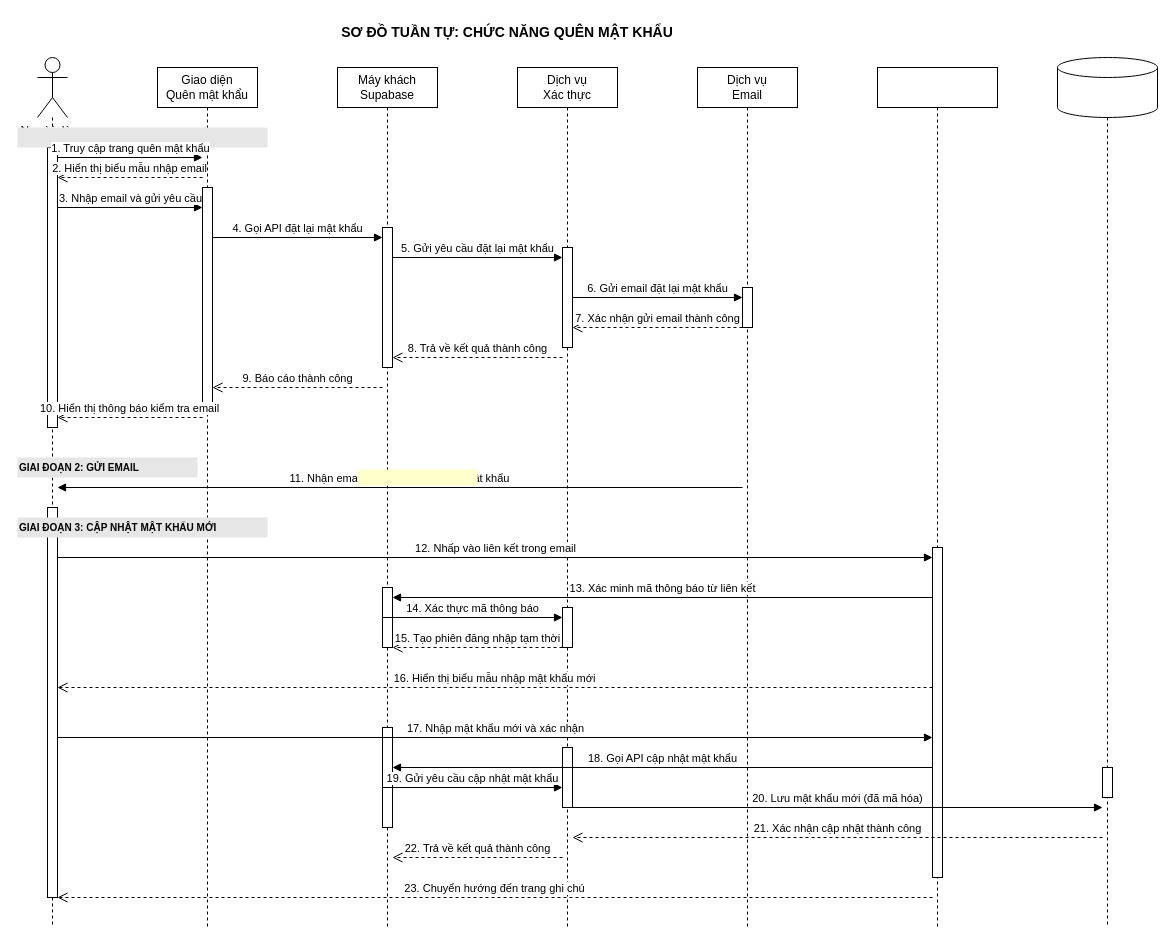
The diagram is 1175 pixels wide and 946 high, and some of its shapes have lost their labels. Each missing label, with the centre of its shape:
"Cơ sở dữ liệu" belongs at [1107,87].
"GIAI ĐOẠN 1: YÊU CẦU ĐẶT LẠI MẬT KHẨU" belongs at [142,137].
"Giao diện Cập nhật mật khẩu" belongs at [937,87].
"Gửi email bất đồng bộ" belongs at [417,477].
